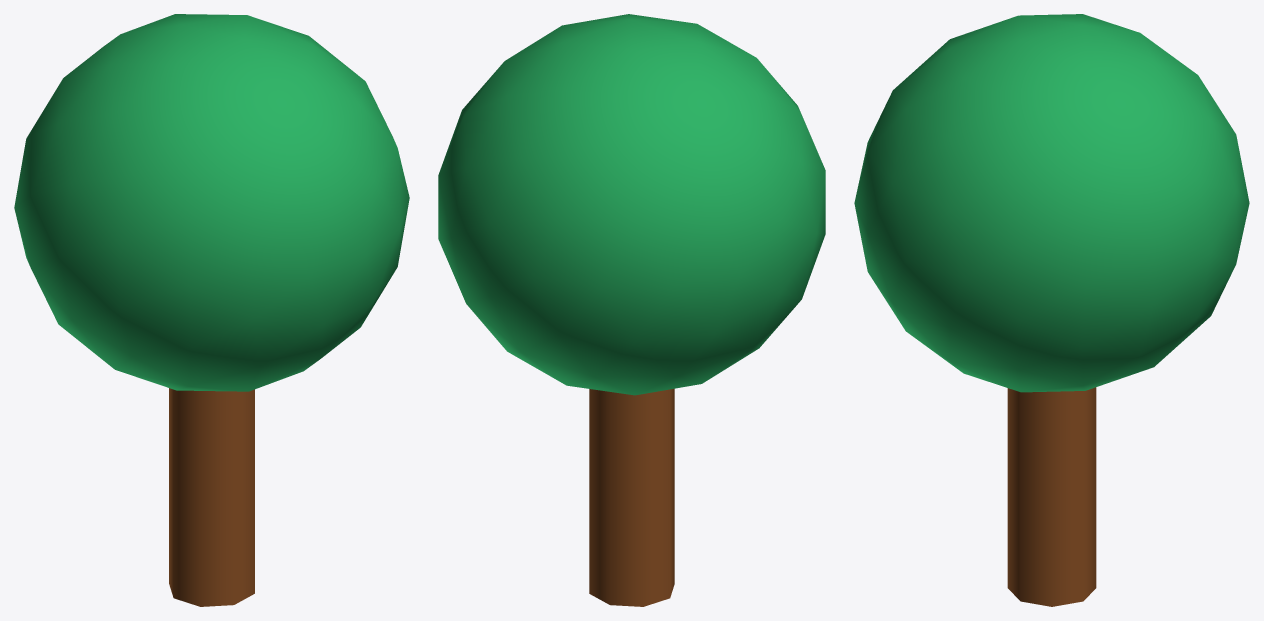
File: bush02_s02.FBX
3 views of the same model, side by side, from view 1: azimuth 30°, elevation 25°; view 2: azimuth 150°, elevation 25°; view 3: azimuth 270°, elevation 25° (orthographic).
Parts seen in each view (by area): view 1: bush02_s02; view 2: bush02_s02; view 3: bush02_s02.
Boxes of the visible parts, <box> form: bush02_s02: <box>14,14,409,606</box>; bush02_s02: <box>438,14,825,606</box>; bush02_s02: <box>854,14,1249,606</box>.
Size of the model in its own units: 153 by 155 by 240.
1 material, 1 textured.
